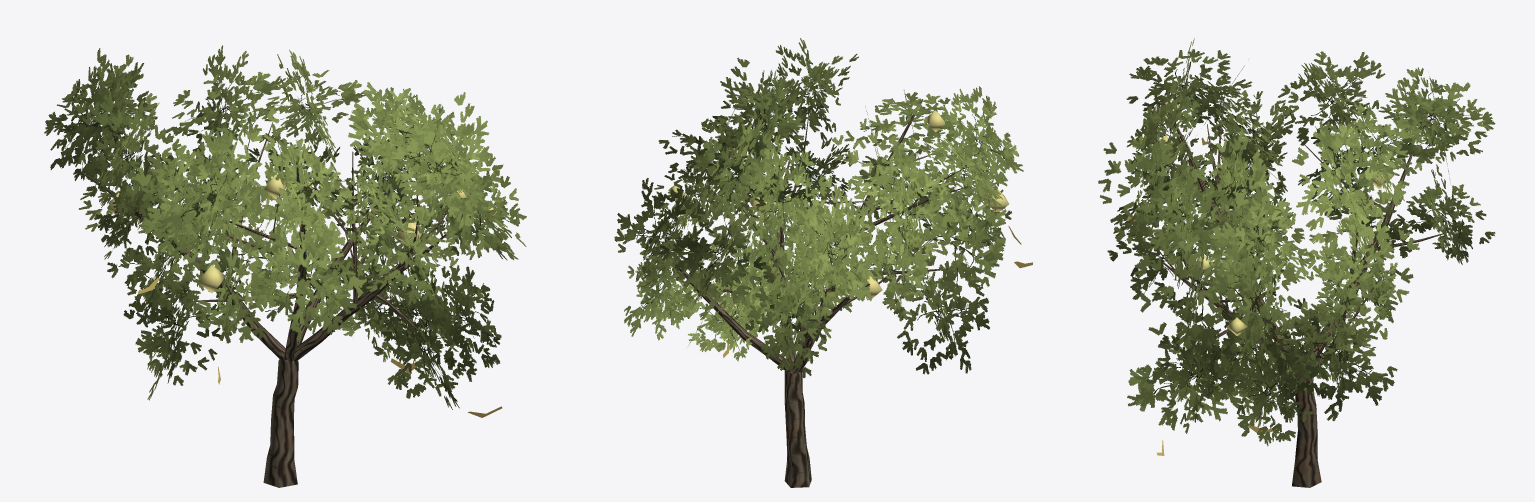
The model's file is young-c.lod1.glb.
3 views of the same model, side by side, from view 1: azimuth 30°, elevation 25°; view 2: azimuth 150°, elevation 25°; view 3: azimuth 270°, elevation 25° (orthographic). The views are drawn at different scales.
Parts seen in each view (by area): view 1: foliage, bark, flowers; view 2: foliage, bark, flowers; view 3: foliage, bark, flowers.
Part boxes in pixels (<box>): foliage: <box>44,45,526,409</box>; bark: <box>81,122,449,487</box>; flowers: <box>107,174,497,293</box>; foliage: <box>614,38,1023,377</box>; bark: <box>660,99,968,487</box>; flowers: <box>668,110,1008,300</box>; foliage: <box>1098,38,1495,446</box>; bark: <box>1149,94,1450,487</box>; flowers: <box>1159,99,1394,335</box>.
Size of the model in its own units: 3.58 by 3.5 by 3.5.
4 materials, 2 textured.
